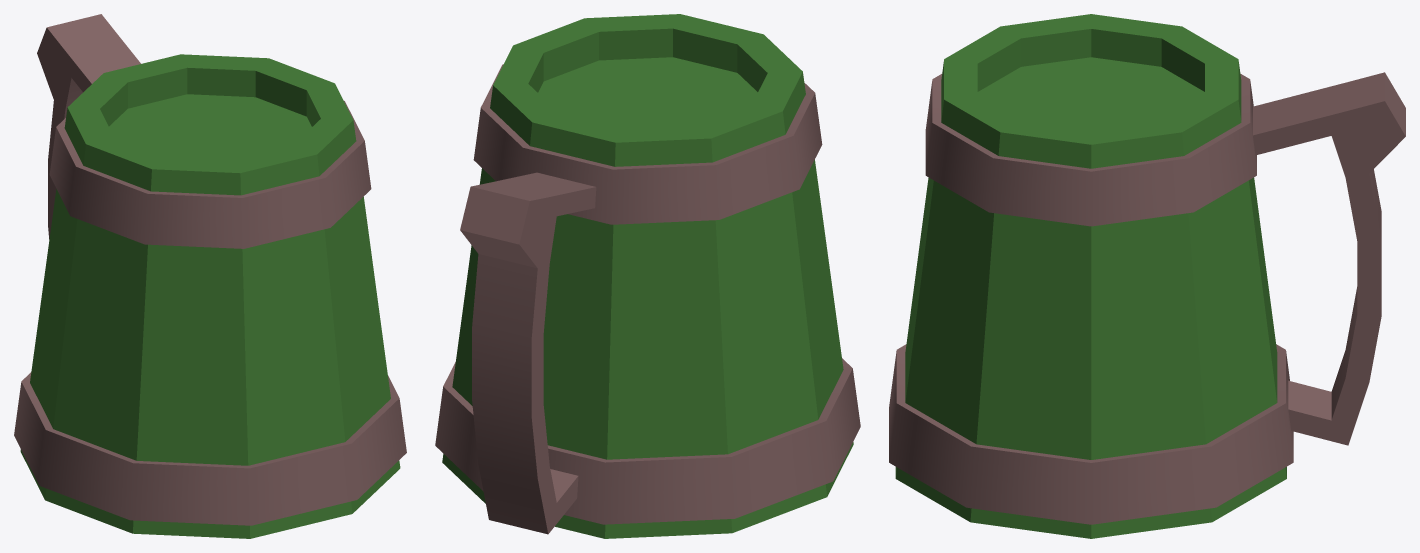
Rendered from Mug.fbx.
The picture shows the model from 3 angles, left to right: view 1: azimuth 30°, elevation 25°; view 2: azimuth 150°, elevation 25°; view 3: azimuth 270°, elevation 25°; orthographic projection. The views are drawn at different scales.
Visible parts, largest first — view 1: BeerBase, MugHandle; view 2: BeerBase, MugHandle; view 3: BeerBase, MugHandle.
Boxes of the visible parts, <box> form: BeerBase: <box>14,54,406,538</box>; MugHandle: <box>37,14,140,239</box>; BeerBase: <box>435,14,860,538</box>; MugHandle: <box>460,172,596,534</box>; BeerBase: <box>889,14,1293,538</box>; MugHandle: <box>1253,72,1405,445</box>.
Size of the model in its own units: 0.628 by 0.6073 by 0.7632.
